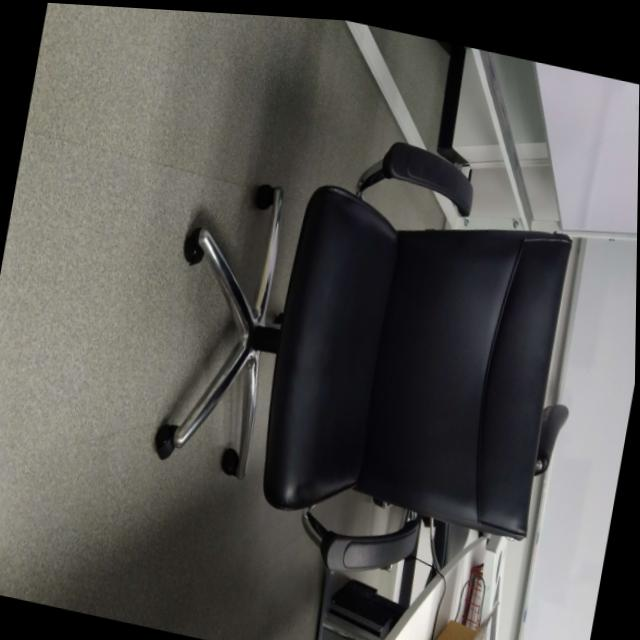chair: (125, 52, 614, 640)
